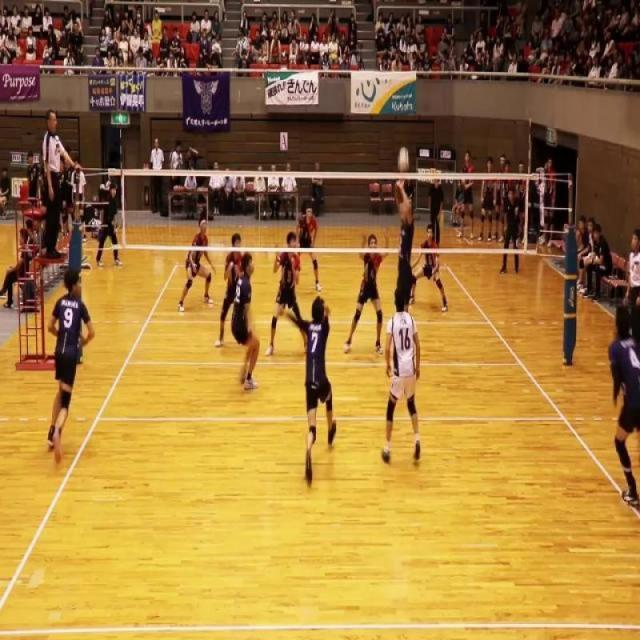volleyball: (398, 144, 410, 175)
